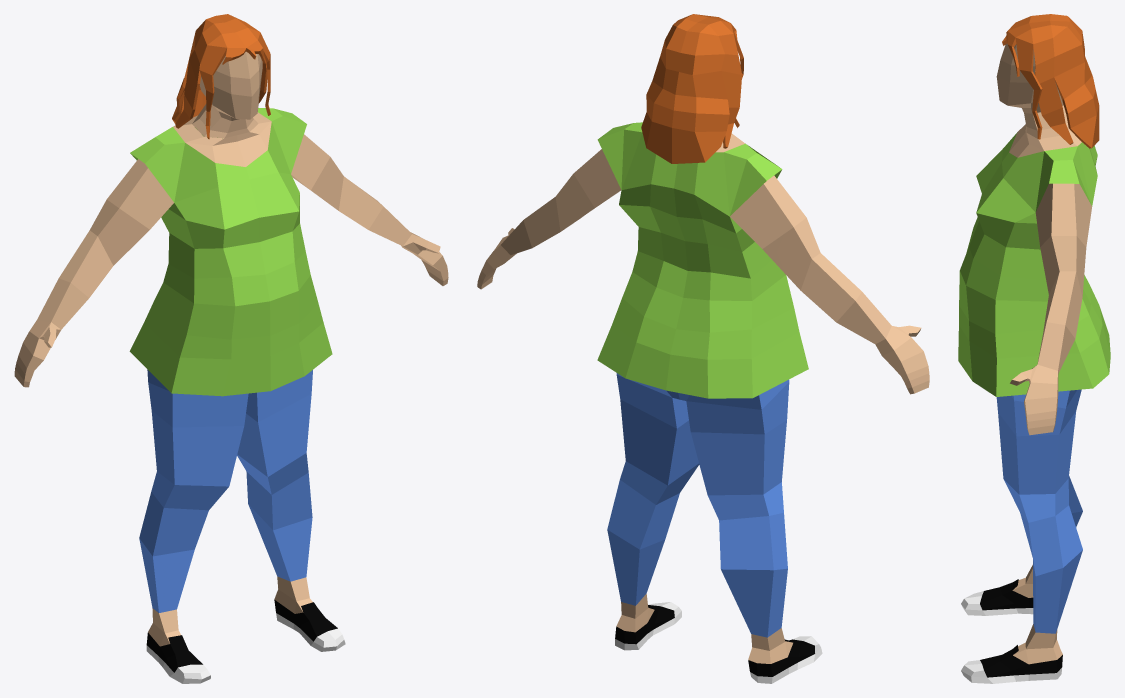
The model's file is female_02_a.fbx.
3 renders of one model, left to right at view 1: azimuth 30°, elevation 25°; view 2: azimuth 150°, elevation 25°; view 3: azimuth 270°, elevation 25°, orthographic. The views are drawn at different scales.
Visible parts, largest first — view 1: female_02_a; view 2: female_02_a; view 3: female_02_a.
Part boxes in pixels (x1,y1,x2,y2): female_02_a: (14,14,448,683); female_02_a: (477,14,929,683); female_02_a: (958,14,1110,683).
Bounding box in the file's own units: 124 × 172 × 38.08.
